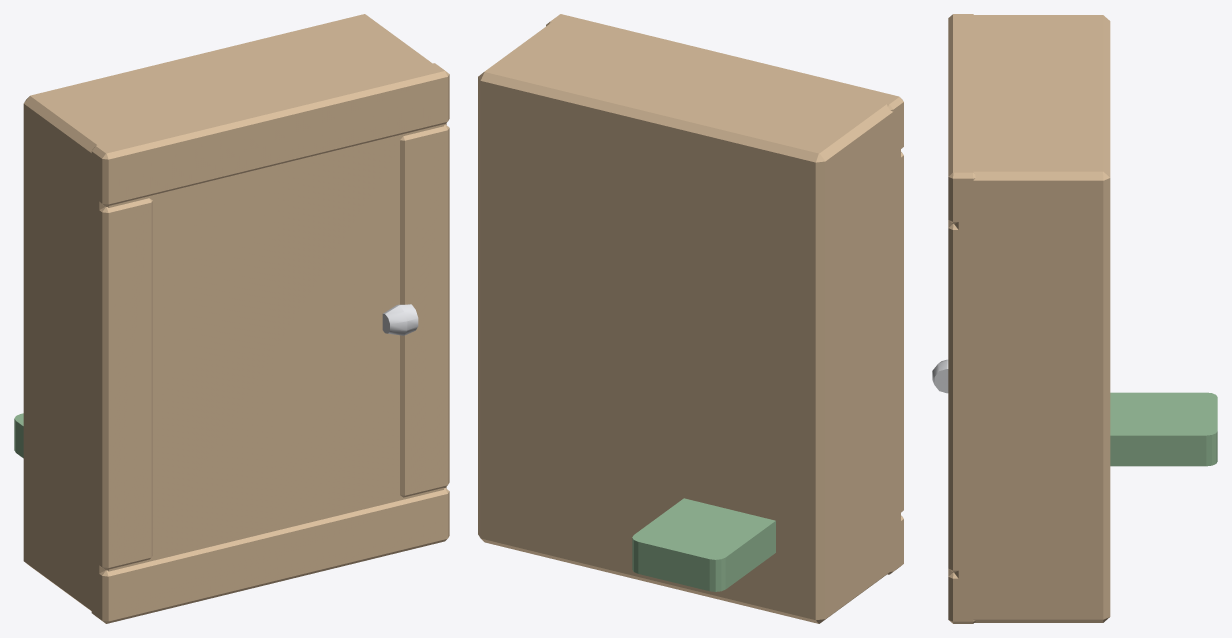
The model's file is care-home-and-day-room-memory-box-3d16bc8a__35748.glb.
3 renders of one model, left to right at view 1: azimuth 30°, elevation 25°; view 2: azimuth 150°, elevation 25°; view 3: azimuth 270°, elevation 25°, orthographic. The views are drawn at different scales.
Parts seen in each view (by area): view 1: memory-box, door-1/wood, door-1/metal; view 2: memory-box, door-1/wood; view 3: memory-box, door-1/wood, door-1/metal.
Boxes of the visible parts, bbox=[...] form: memory-box: bbox=[14, 14, 446, 615]; door-1/wood: bbox=[91, 63, 449, 623]; door-1/metal: bbox=[382, 304, 418, 335]; memory-box: bbox=[478, 16, 900, 623]; door-1/wood: bbox=[546, 14, 903, 574]; memory-box: bbox=[952, 15, 1217, 622]; door-1/wood: bbox=[948, 14, 975, 623]; door-1/metal: bbox=[932, 359, 948, 393].
Bounding box in the file's own units: 0.34 × 0.44 × 0.2523.
